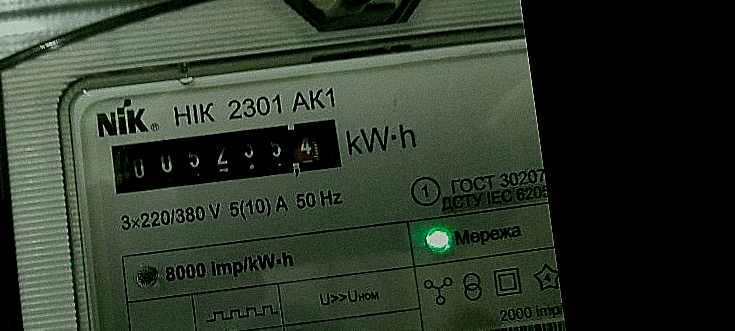0: (128, 153, 148, 181), (157, 147, 174, 174)
2: (211, 139, 228, 165)
3: (239, 133, 256, 160)
4: (296, 129, 314, 157)
5: (265, 130, 284, 159), (183, 142, 202, 170)
screen: (99, 104, 354, 206)
